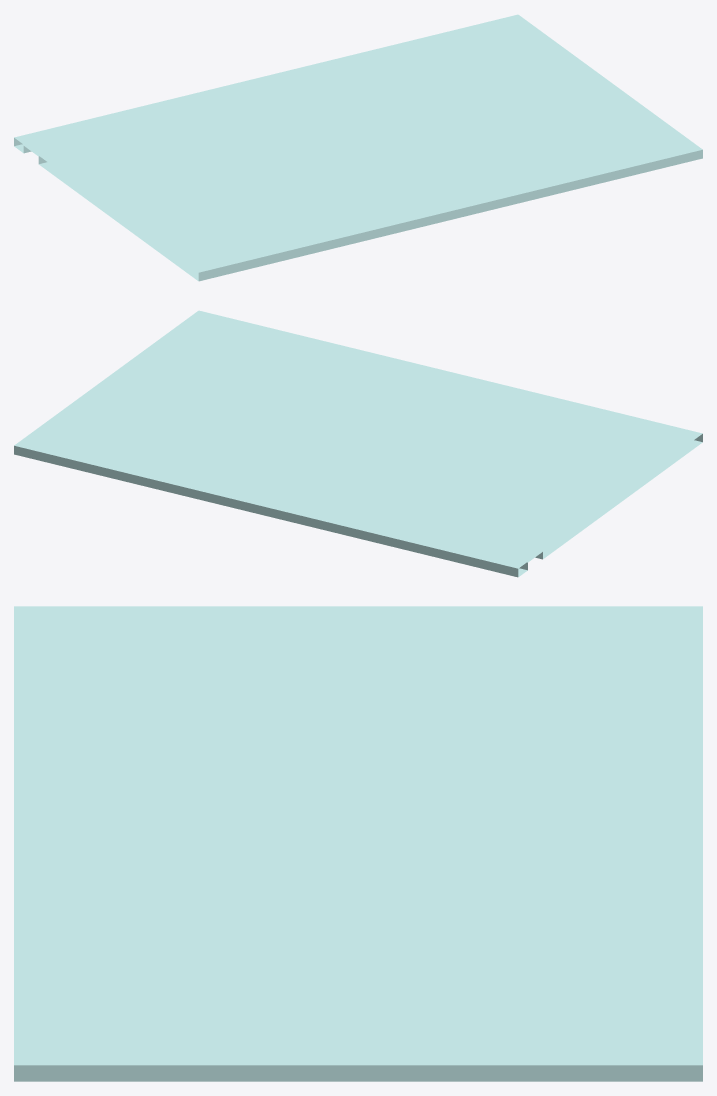
The model's file is KTCH_ELIX_Shelve_Light_Right_60_40_1.FBX.
The picture shows the model from 3 angles, top to bottom: view 1: azimuth 30°, elevation 25°; view 2: azimuth 150°, elevation 25°; view 3: azimuth 270°, elevation 25°; orthographic projection. The views are drawn at different scales.
Visible parts, largest first — view 1: KTCH_ELIX_Shelve_Light_Right_60_40_1; view 2: KTCH_ELIX_Shelve_Light_Right_60_40_1; view 3: KTCH_ELIX_Shelve_Light_Right_60_40_1.
Boxes of the visible parts, x1,y1,x2,y2 form: KTCH_ELIX_Shelve_Light_Right_60_40_1: (14, 14, 702, 281); KTCH_ELIX_Shelve_Light_Right_60_40_1: (14, 310, 702, 577); KTCH_ELIX_Shelve_Light_Right_60_40_1: (14, 606, 702, 1081).
Size of the model in its own units: 60 by 38.06 by 1.
